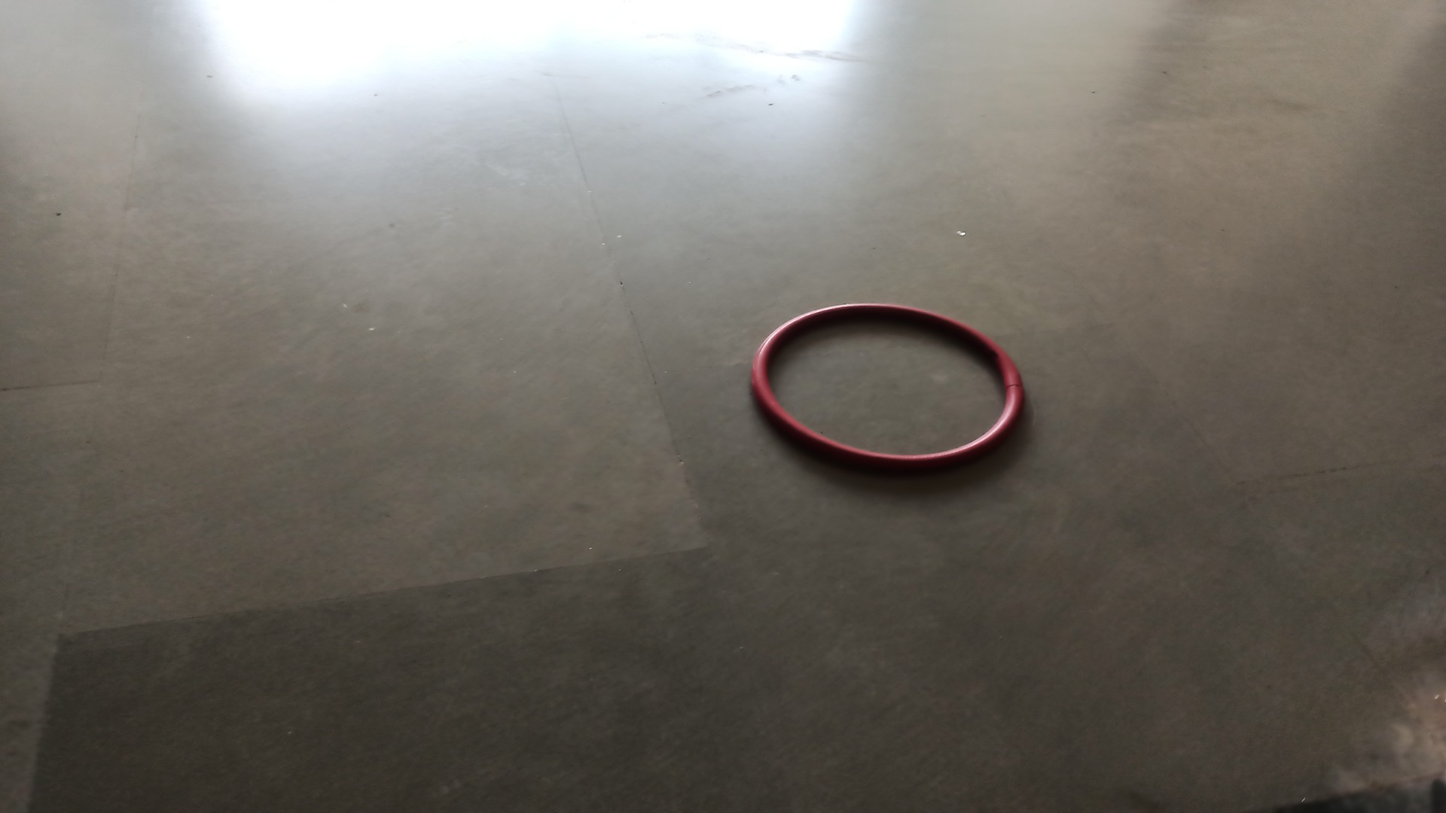Red ring: (748, 303, 1025, 474)
